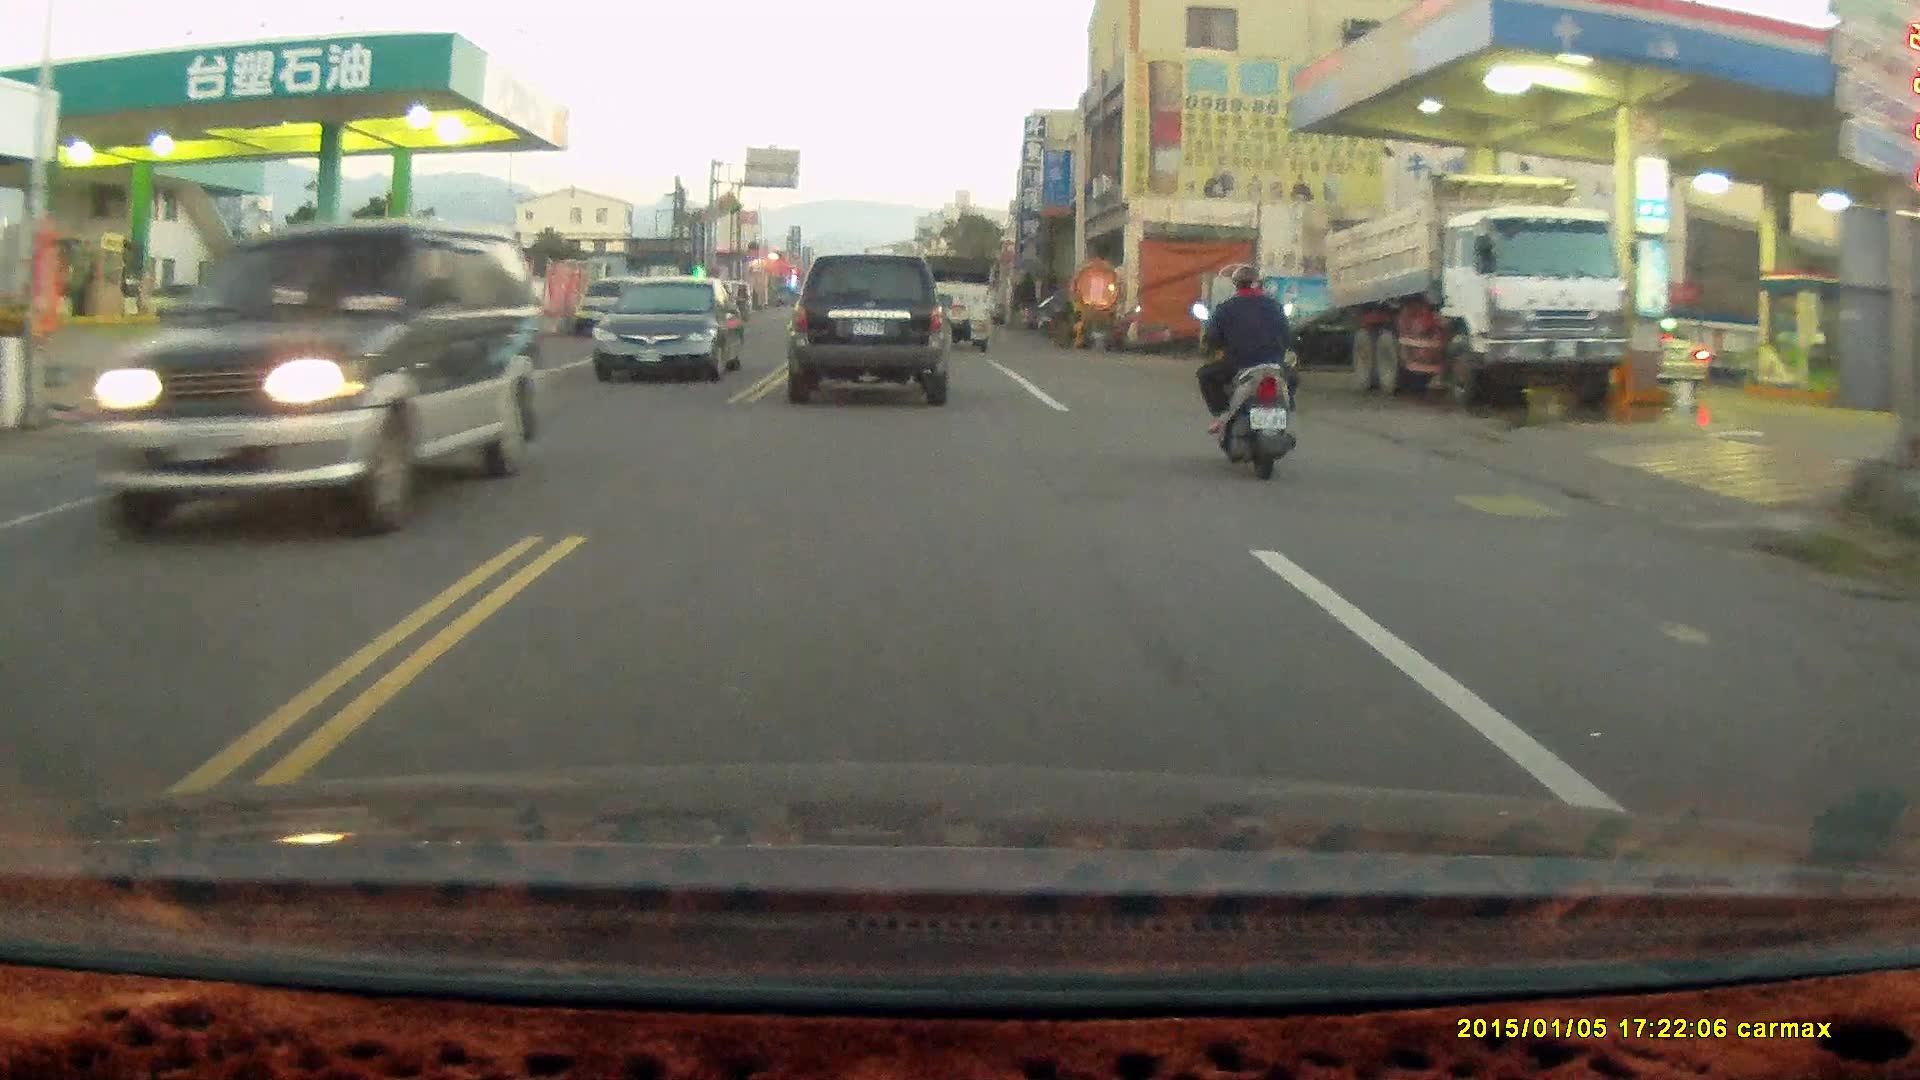rider: (1191, 262, 1299, 483)
vehicle: (68, 227, 551, 547), (1324, 174, 1629, 406), (793, 252, 954, 408), (593, 275, 749, 388), (900, 251, 993, 349)
